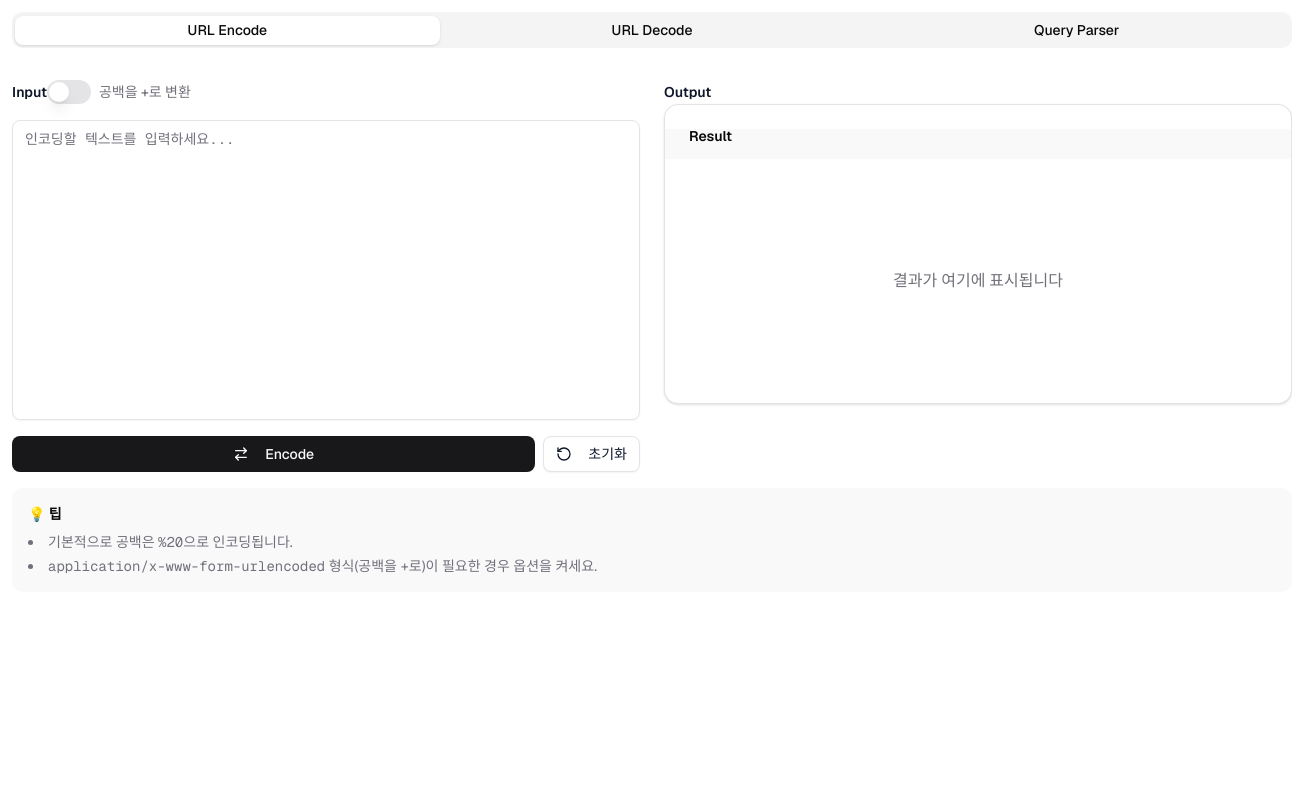
Test case: UrlEncoderDecoder › 공백을 +로 변환 옵션 테스트
The image size is (1304, 812).
Click the switch named "공백을 +로 변환" at (69, 92), box [47, 80, 91, 104]
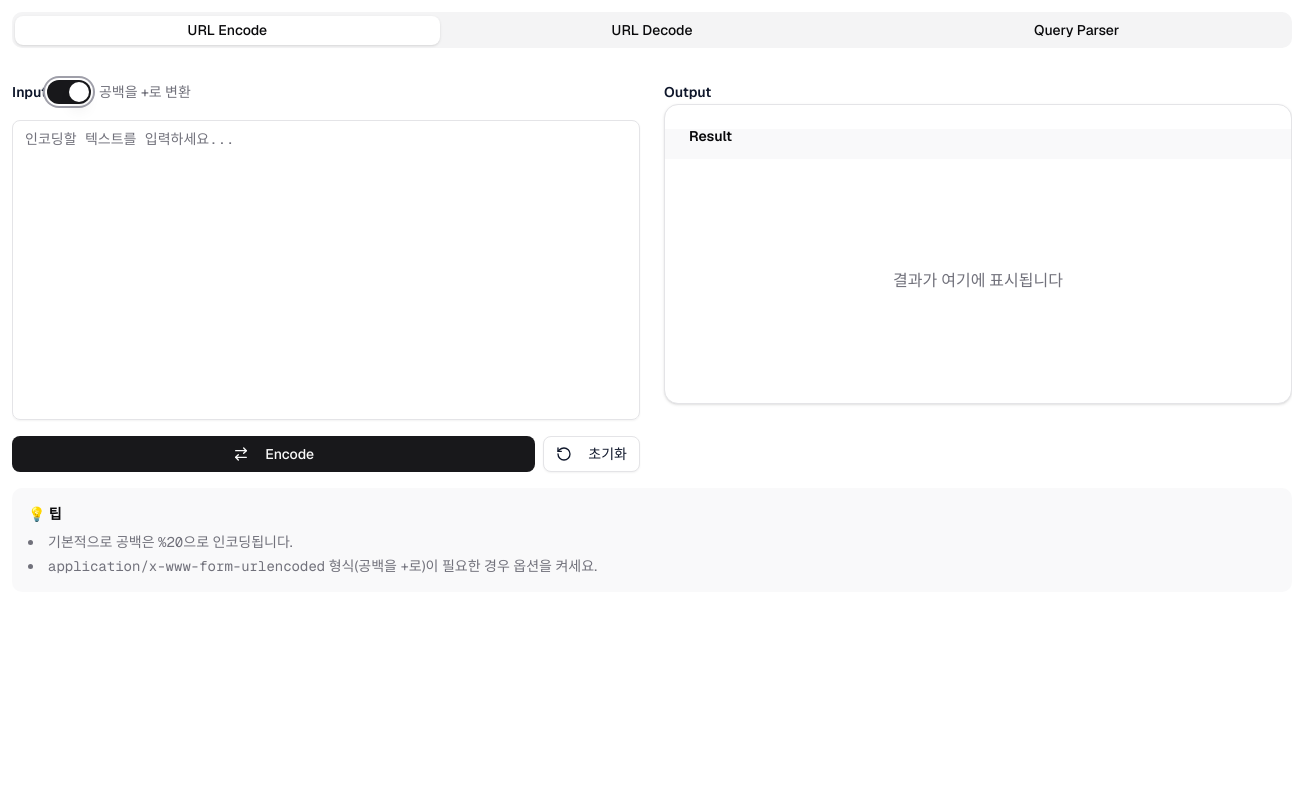
Type "Hello World" into the text box with placeholder "인코딩할 텍스트를 입력하세요..." at (326, 270), box [12, 120, 640, 420]
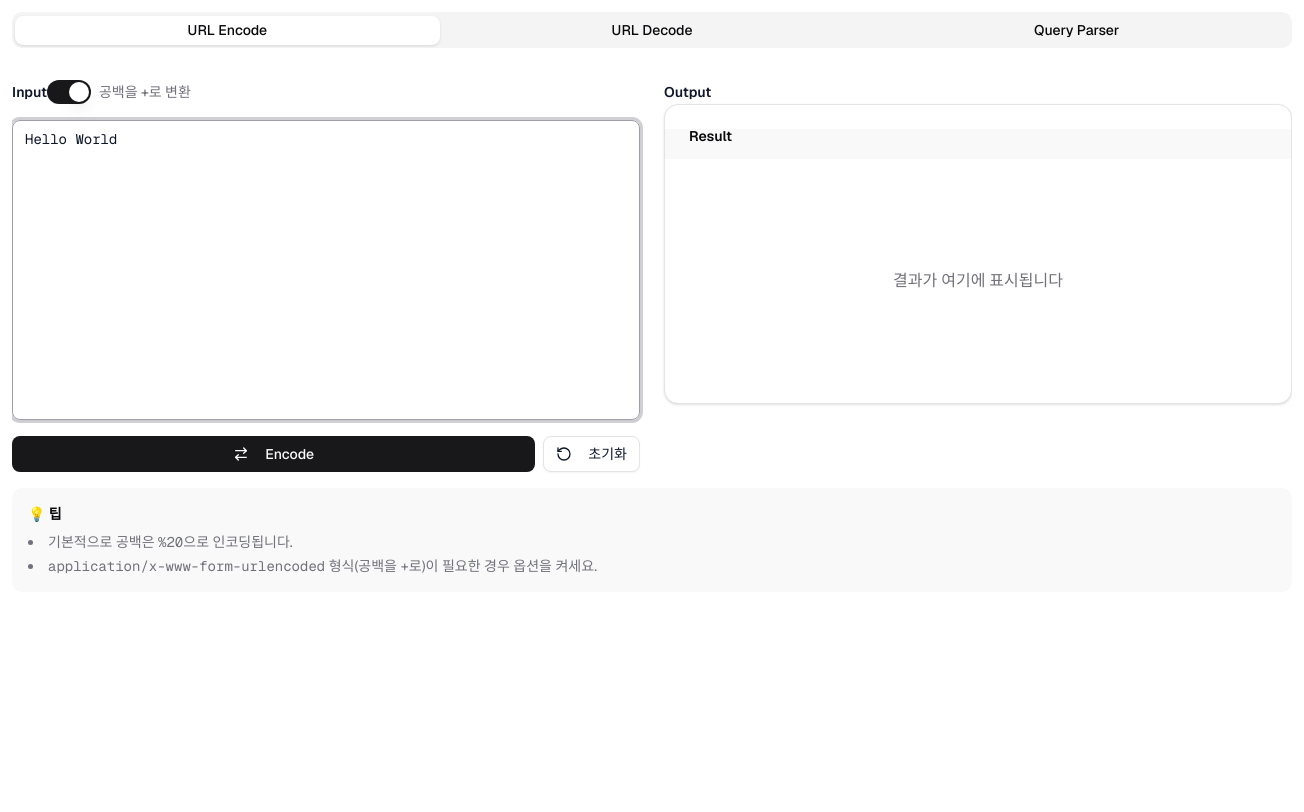
Click the button "Encode" at (274, 454), box [12, 436, 535, 472]
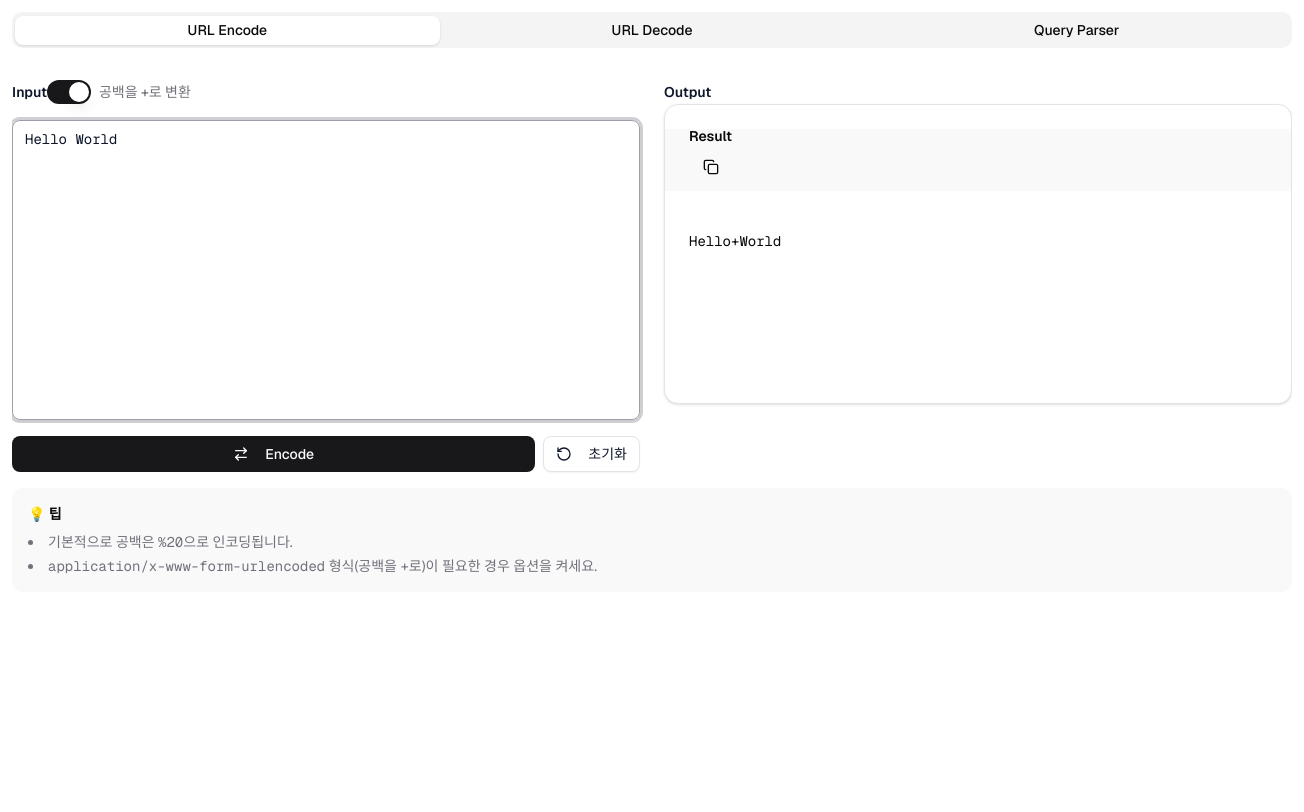
Check: the text "Hello+World" is shown, box [689, 232, 781, 250]
